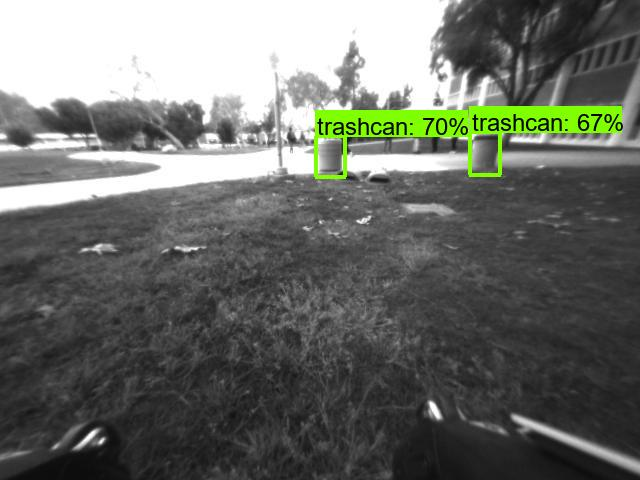trashcan: (311, 141, 347, 178), (475, 133, 499, 170)
